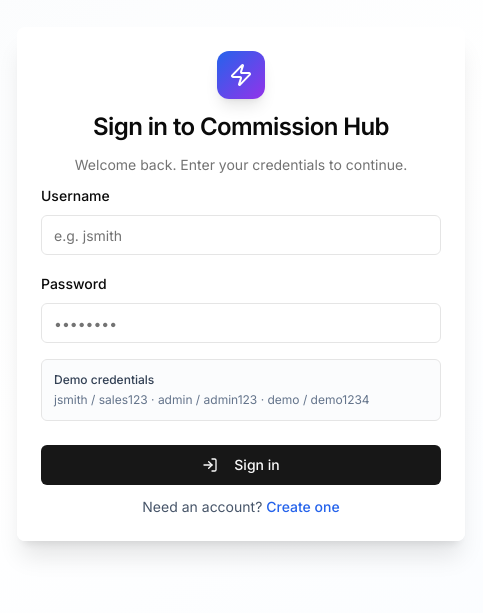
LoginPage › surfaces 401 error to the user
In the field labelled "Username": x=241, y=235 [41,215,441,255], type "jsmith"
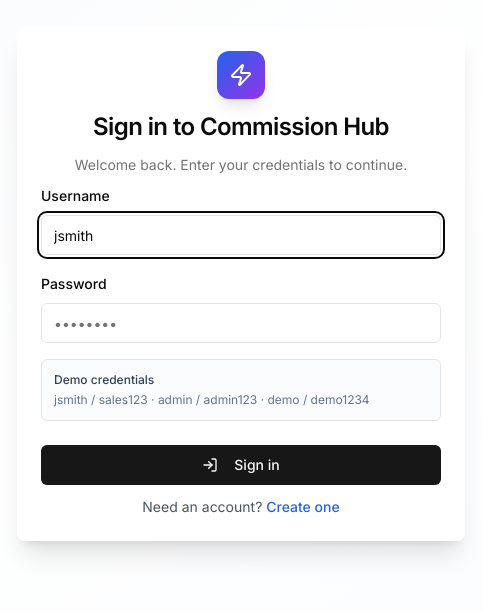
In the password field labelled "Password": x=241, y=323 [41,303,441,343], type "wrong"
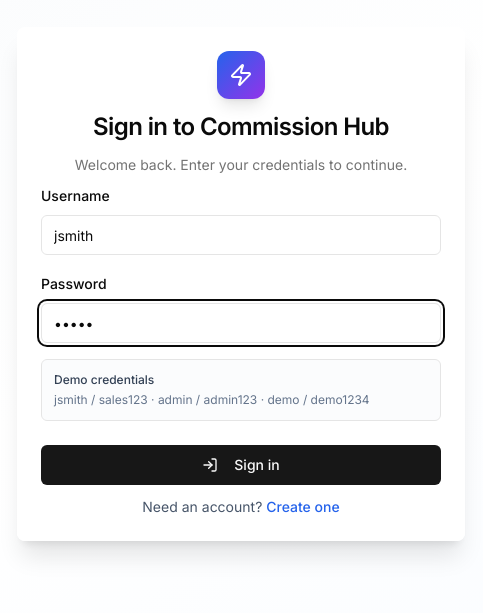
Click the button "Sign in": x=241, y=465 [41,445,441,485]
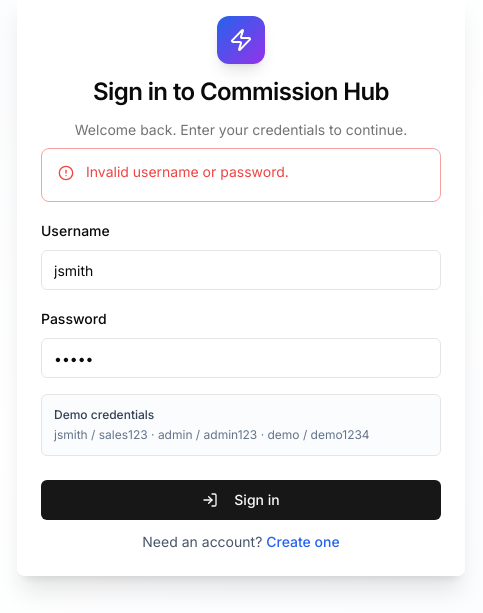
Expected: the text "Invalid username or password." is shown, [86,163,289,180]
